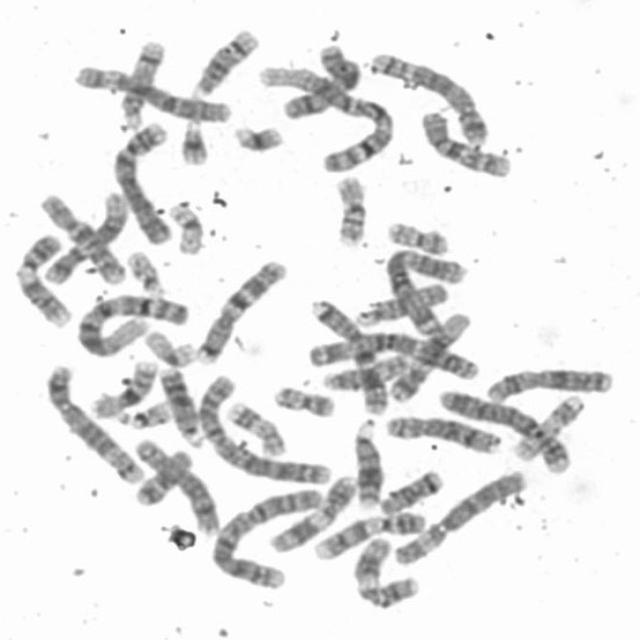A1: (253, 59, 400, 175), (73, 287, 193, 359)
A2: (191, 368, 336, 488), (208, 482, 326, 590)
A3: (304, 327, 483, 383), (376, 244, 472, 341)
B4: (434, 384, 576, 477), (107, 116, 177, 246)
B5: (41, 358, 150, 486), (366, 45, 493, 148)
C10: (415, 104, 514, 180), (36, 198, 124, 282)
C11: (262, 470, 362, 555), (348, 530, 424, 610)
C12: (384, 305, 474, 404), (48, 187, 130, 287)
C6: (387, 463, 533, 568), (68, 59, 234, 124)
C7: (188, 252, 290, 365), (304, 293, 393, 418)
C8: (128, 433, 222, 537), (380, 408, 505, 456)
C9: (308, 505, 430, 562), (10, 228, 74, 329)
D13: (155, 360, 209, 448), (346, 414, 384, 508)
D14: (185, 22, 262, 100), (115, 32, 171, 132)
D15: (352, 278, 450, 328), (318, 348, 414, 392)
E16: (86, 353, 162, 420), (328, 169, 372, 247)
E17: (506, 389, 588, 463), (220, 396, 288, 458)
E18: (129, 444, 194, 508), (375, 464, 446, 515)
F19: (163, 195, 207, 256), (140, 324, 200, 368)
F20: (381, 214, 453, 257), (268, 380, 338, 419)
G21: (228, 118, 286, 154), (173, 115, 213, 167)
G22: (121, 244, 169, 297), (112, 394, 176, 430)
X: (275, 39, 364, 121), (482, 360, 619, 404)
